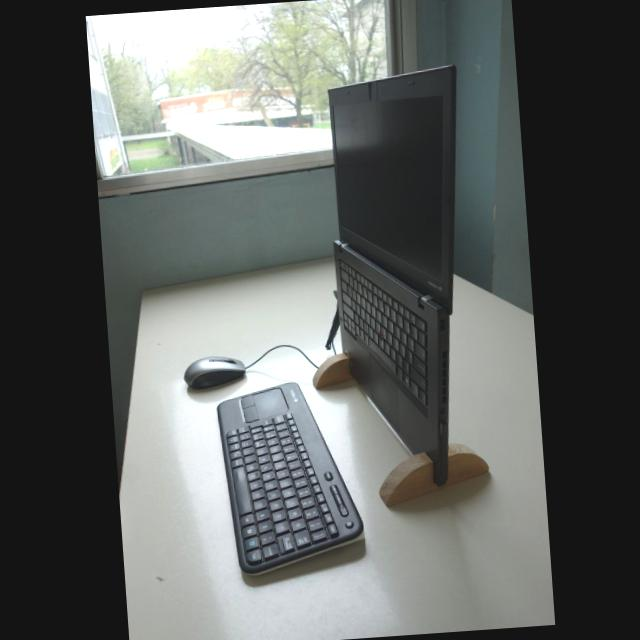laptop: (329, 66, 456, 486)
